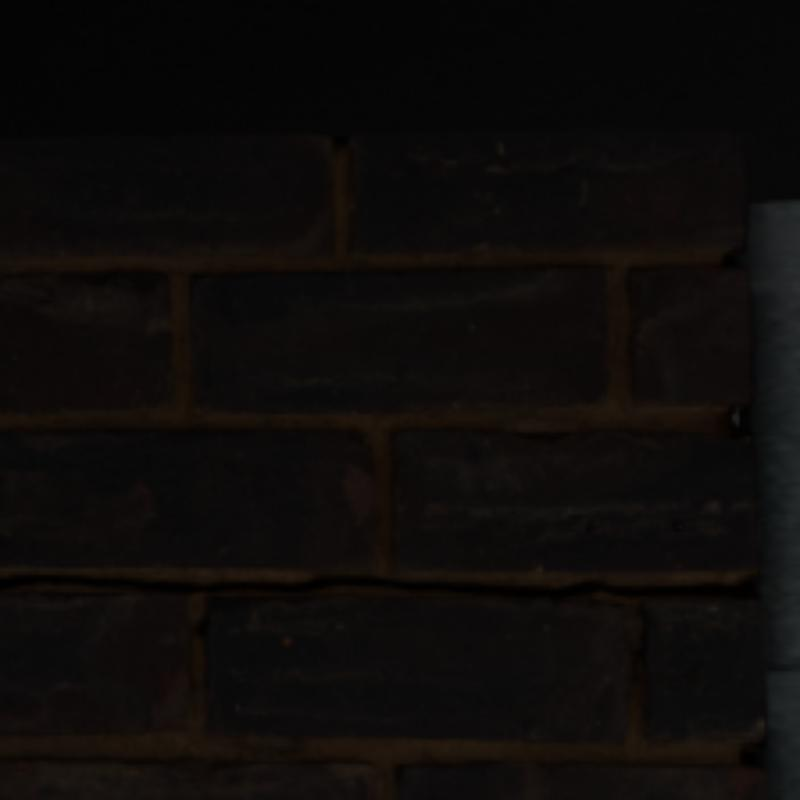pothole: (0, 575, 743, 596)
